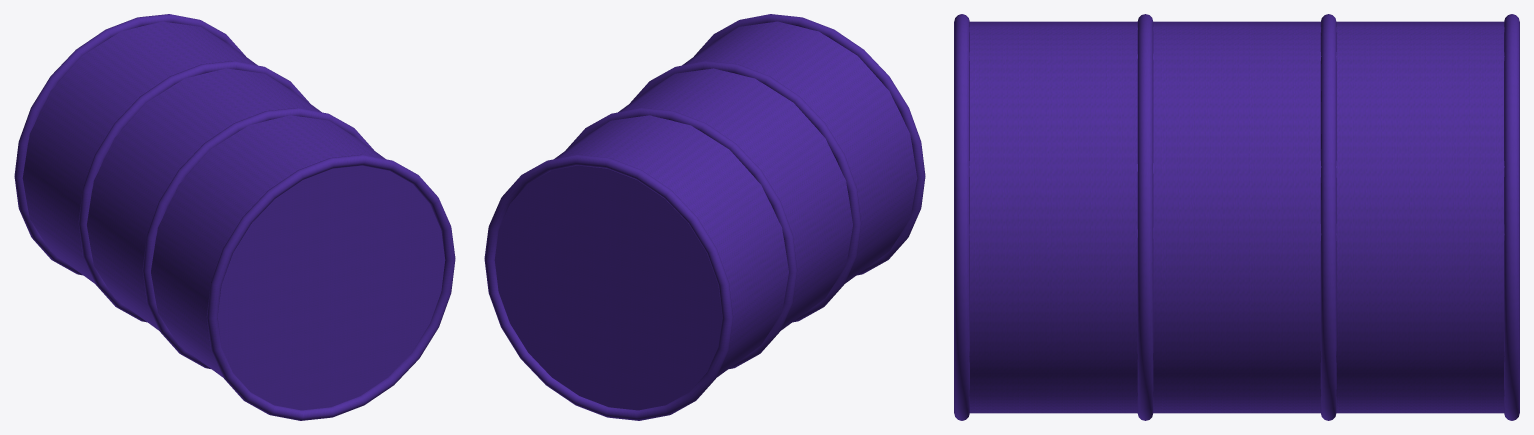
The model's file is Barrel.obj.
3 views of the same model, side by side, from view 1: azimuth 30°, elevation 25°; view 2: azimuth 150°, elevation 25°; view 3: azimuth 270°, elevation 25° (orthographic). The views are drawn at different scales.
Parts seen in each view (by area): view 1: Cylinder001; view 2: Cylinder001; view 3: Cylinder001.
Boxes of the visible parts, box(x1,y1,x2,y2) form: Cylinder001: box(14, 14, 455, 420); Cylinder001: box(484, 14, 925, 420); Cylinder001: box(954, 14, 1519, 420).
Size of the model in its own units: 2.08 by 2.08 by 2.88.
